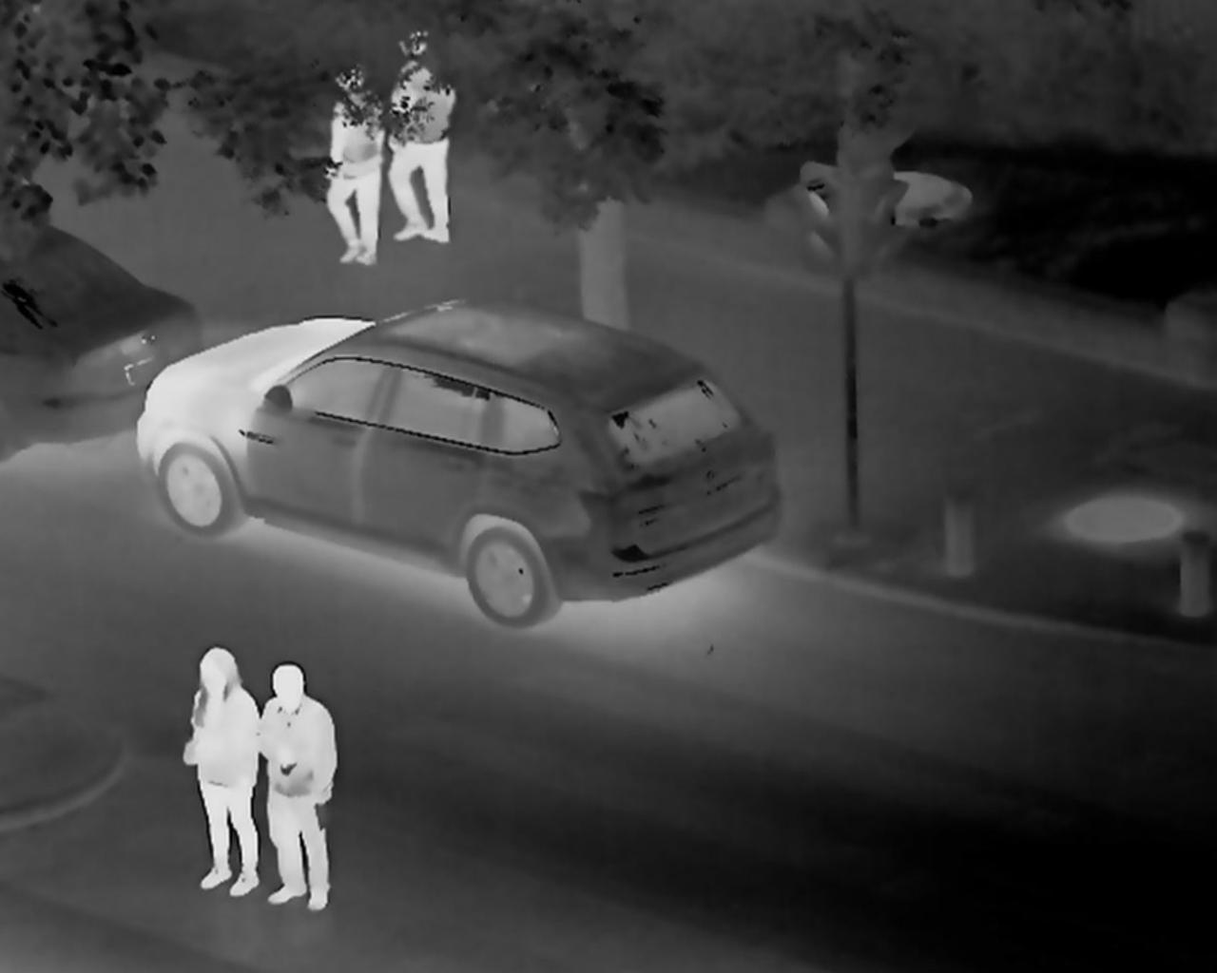person: (179, 643, 261, 898), (251, 659, 331, 912), (383, 22, 457, 248), (321, 64, 385, 271)
